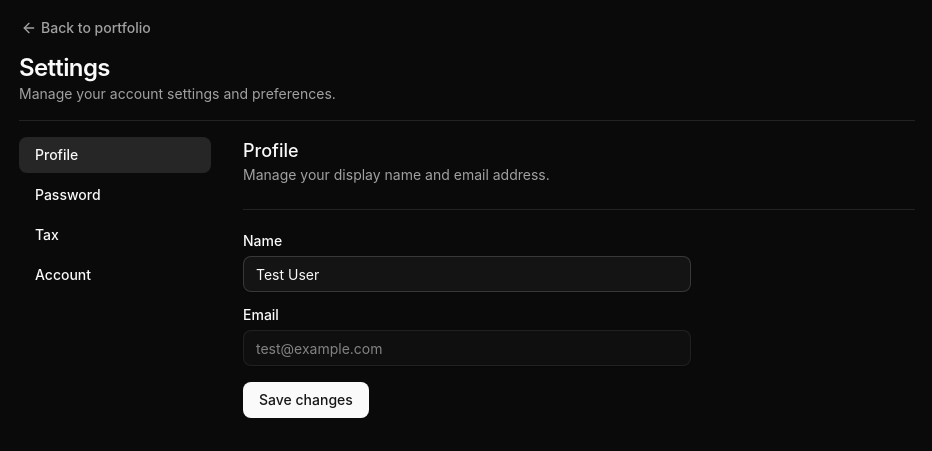
SettingsPage › switches to Tax section when Tax nav is clicked
Click the button "Tax". click: (115, 235)
box: [19,217,211,253]
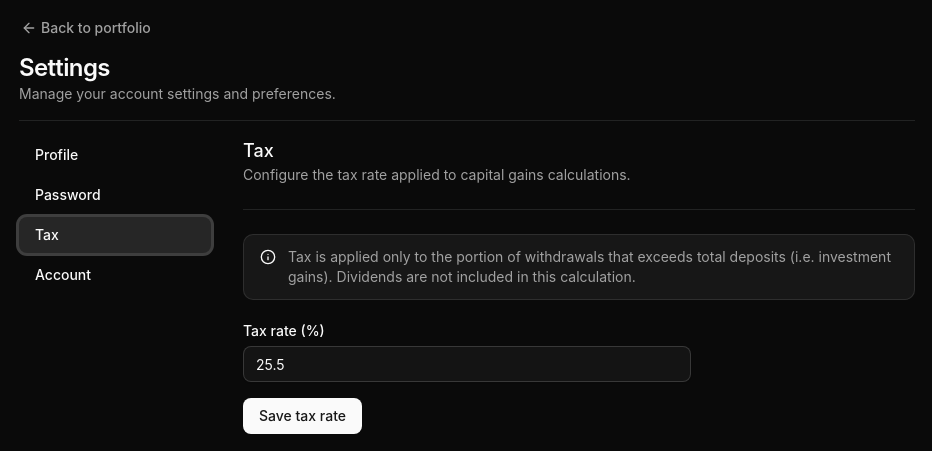
Result: the number field labelled "Tax rate (%)" is shown at [243,346,691,382]
Result: the text labelled "name" is gone
